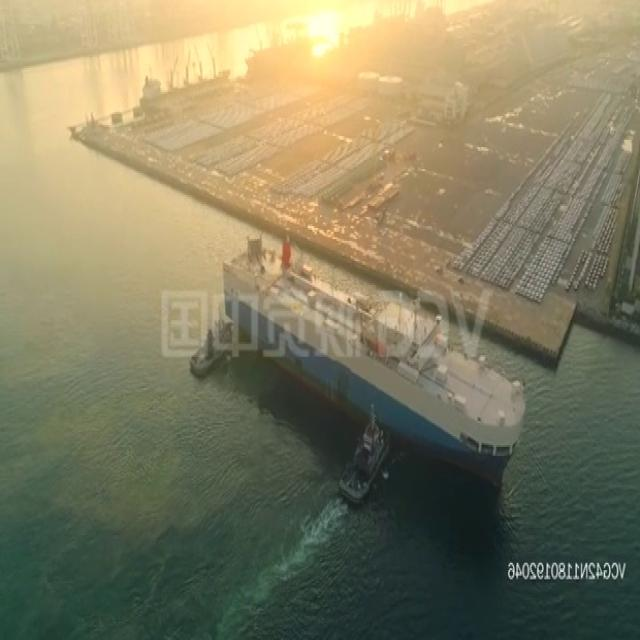cargoship: (224, 244, 530, 476)
houseboat: (339, 413, 388, 504), (185, 312, 237, 376)
